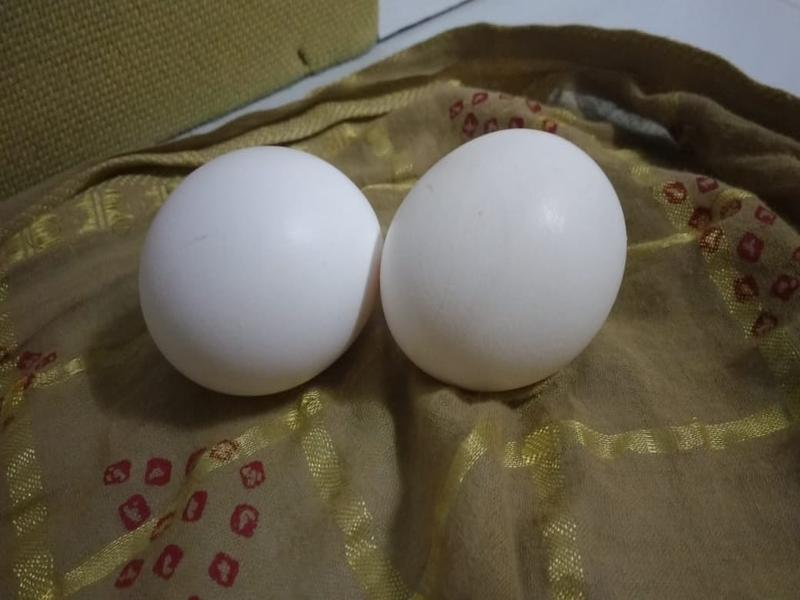egg: (383, 122, 630, 387)
